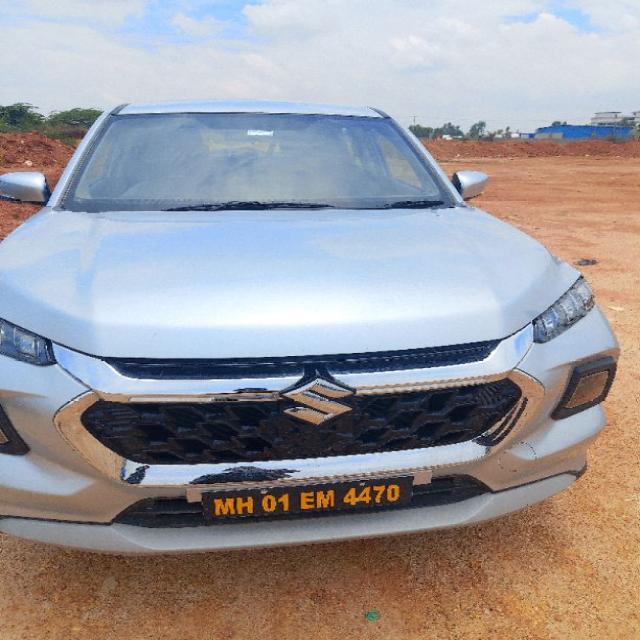license_plate: (1, 98, 620, 556), (198, 473, 415, 522)
